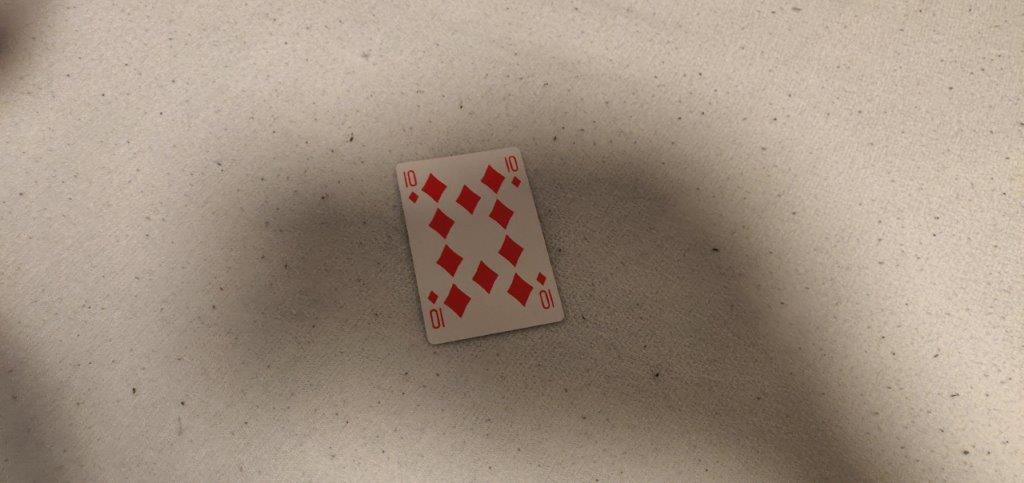10D: (503, 148, 526, 196), (401, 165, 424, 209)
